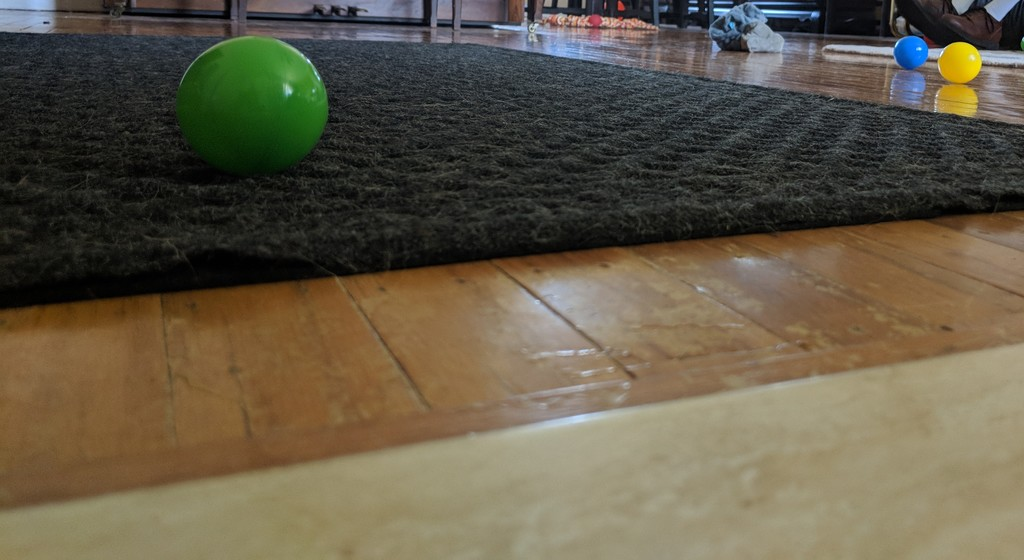ball: (177, 34, 331, 182)
